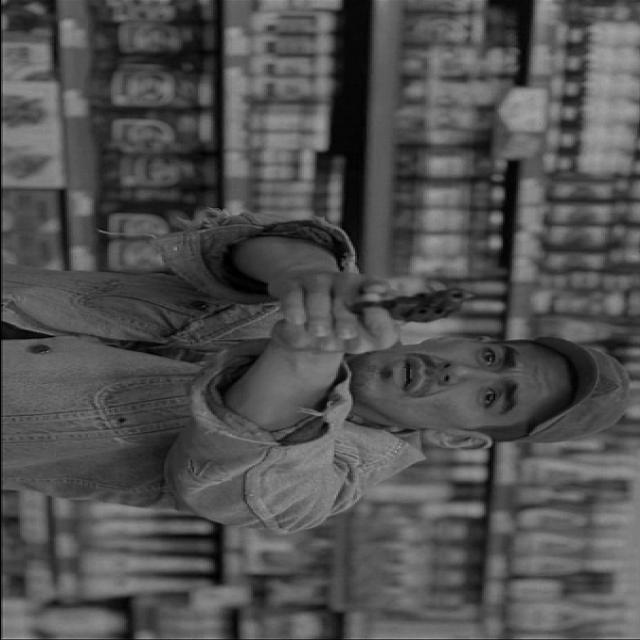weapons: (307, 276, 504, 338)
